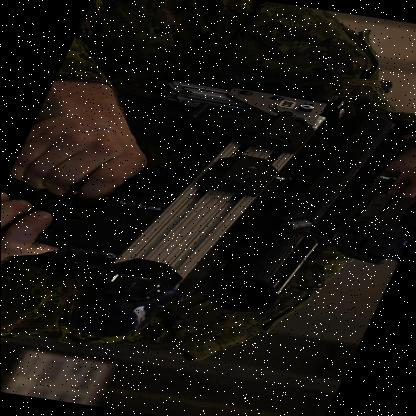rifle: (23, 59, 416, 366)
